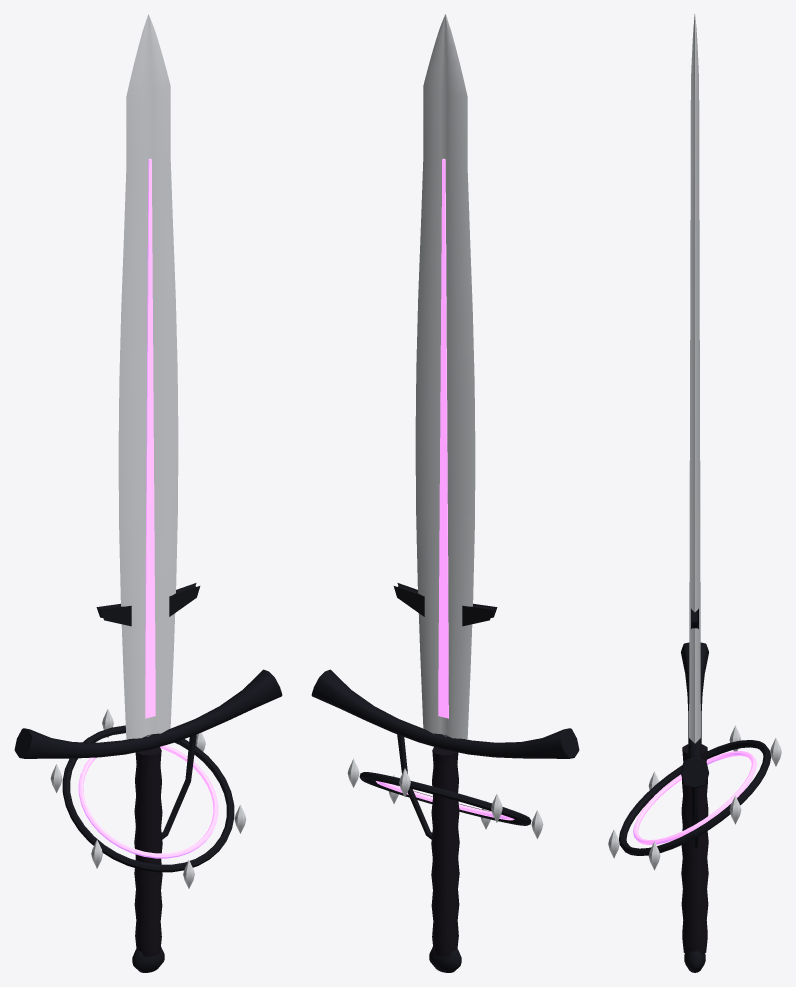
Rendered from esc_w_knight_greatsword_2.glb.
3 renders of one model, left to right at view 1: azimuth 30°, elevation 25°; view 2: azimuth 150°, elevation 25°; view 3: azimuth 270°, elevation 25°, orthographic.
Visible parts, largest first — view 1: esc_w_knight_greatsword_2; view 2: esc_w_knight_greatsword_2; view 3: esc_w_knight_greatsword_2.
Boxes of the visible parts, bbox=[...] form: esc_w_knight_greatsword_2: bbox=[14, 14, 282, 972]; esc_w_knight_greatsword_2: bbox=[311, 14, 579, 972]; esc_w_knight_greatsword_2: bbox=[608, 14, 781, 972].
Bounding box in the file's own units: 0.4567 × 1.61 × 0.265.
